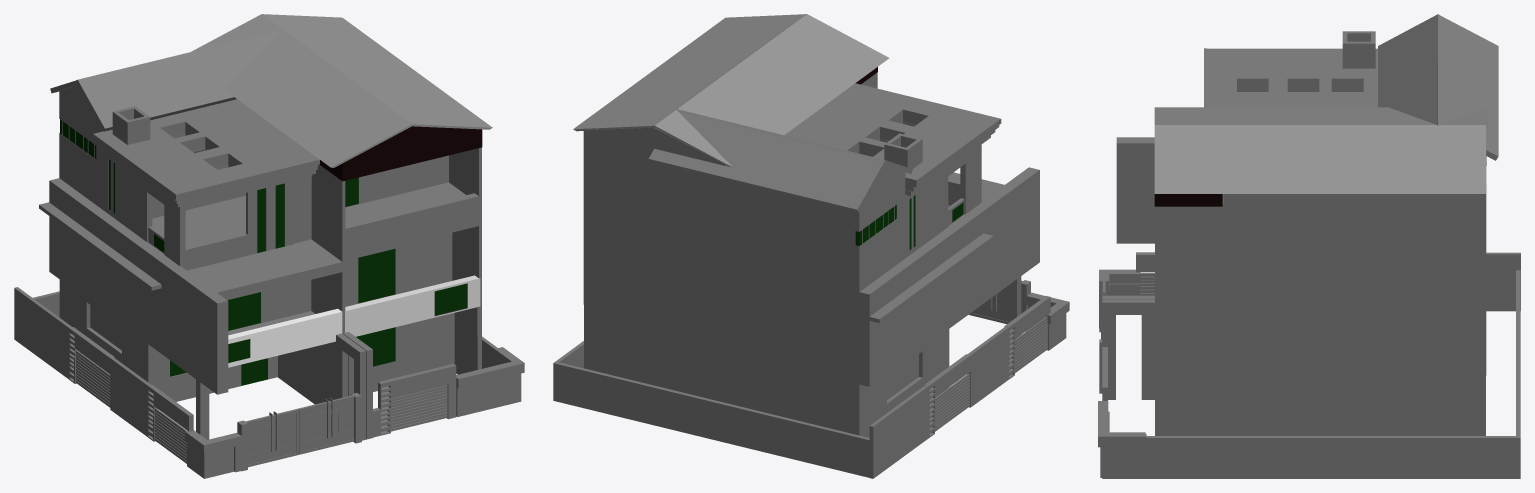
The model's file is house.glb.
The picture shows the model from 3 angles, left to right: view 1: azimuth 30°, elevation 25°; view 2: azimuth 150°, elevation 25°; view 3: azimuth 270°, elevation 25°; orthographic projection. The views are drawn at different scales.
Visible parts, largest first — view 1: Asset3DLoader.sceneRoot; view 2: Asset3DLoader.sceneRoot; view 3: Asset3DLoader.sceneRoot.
Part boxes in pixels (x1,y1,x2,y2): Asset3DLoader.sceneRoot: [14, 14, 524, 478]; Asset3DLoader.sceneRoot: [553, 14, 1069, 478]; Asset3DLoader.sceneRoot: [1098, 14, 1520, 478].
Size of the model in its own units: 287 by 241 by 298.
